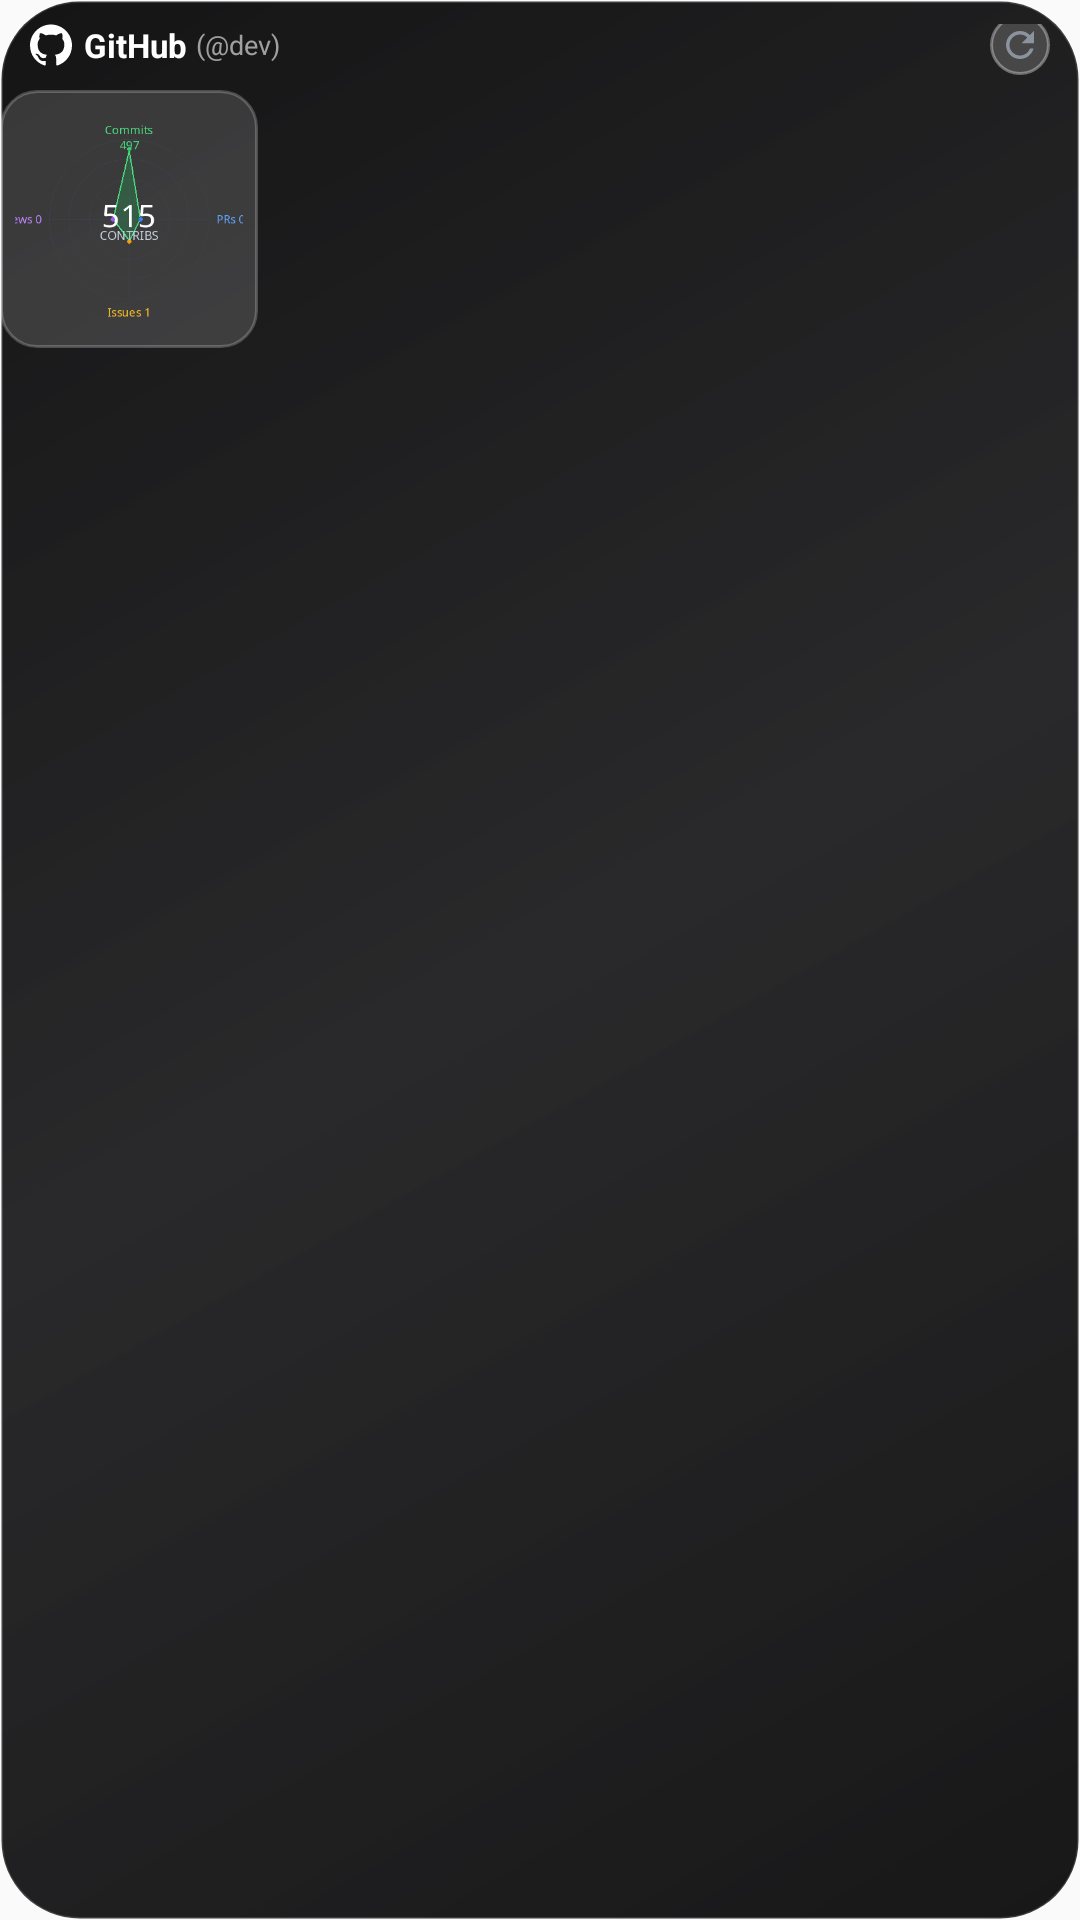

Icons on this 1080 × 1920 Android screen, each with the point to tap as point (x, y):
Refresh: point (1020, 49)
